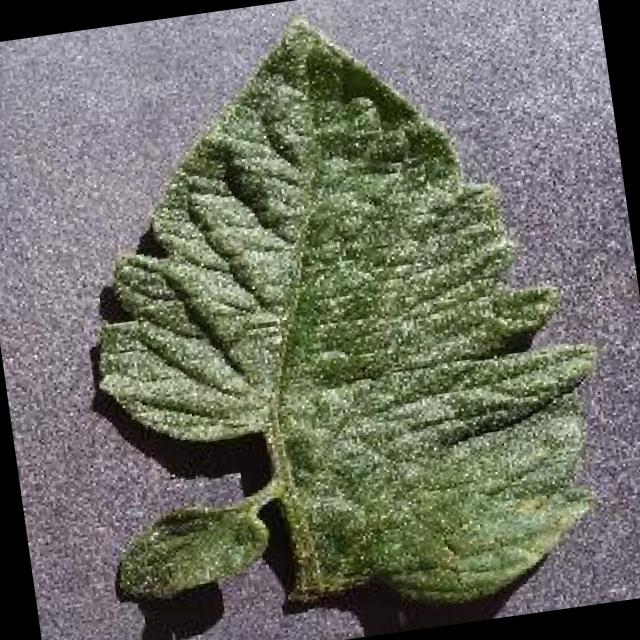Tomato_Healthy: (24, 0, 616, 640)
